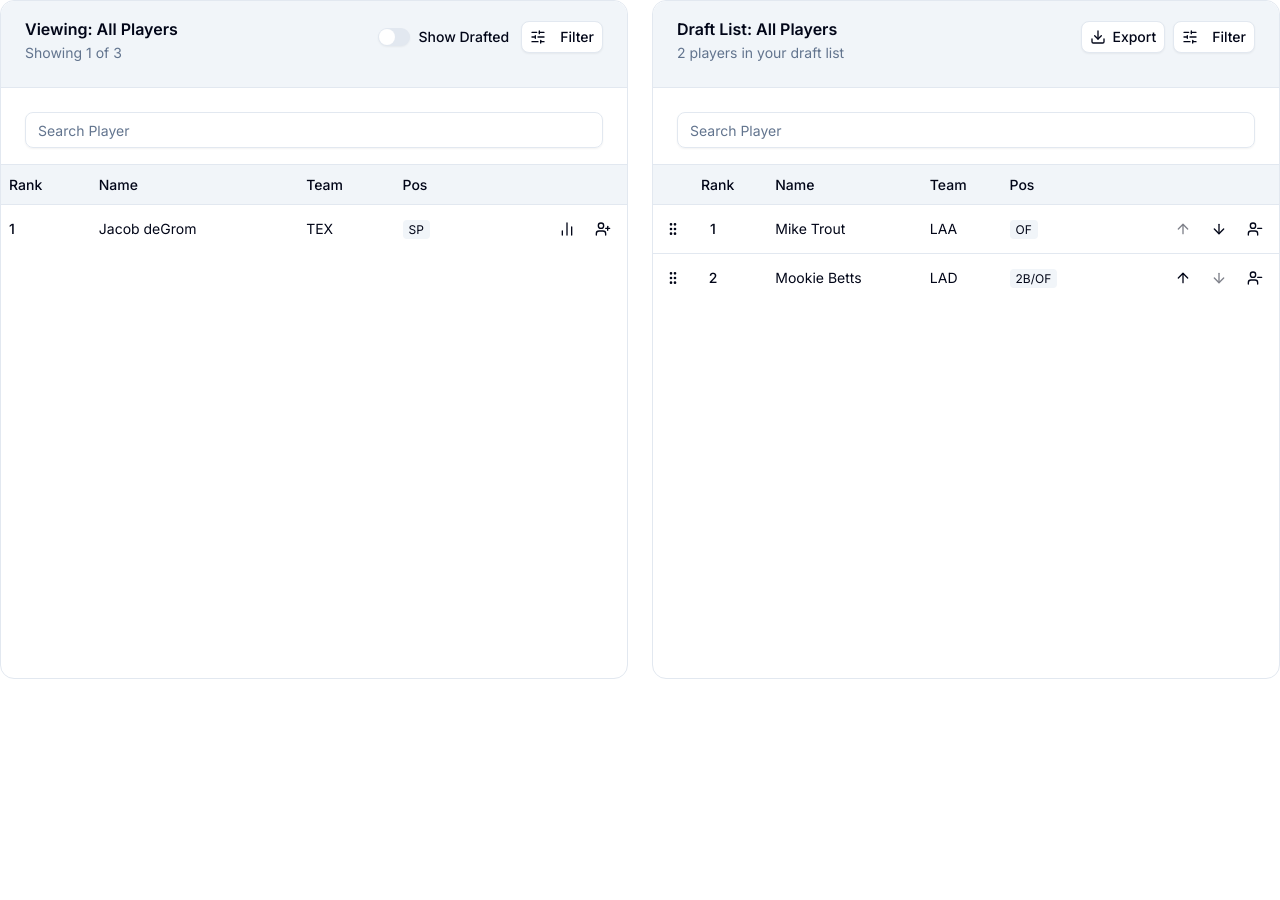
Scenario: DraftListBuilder › rank move popover functionality › should filter players by search term and show no matches
Click the button "1".
click(713, 229)  # box x1=701 y1=217 x2=725 y2=241
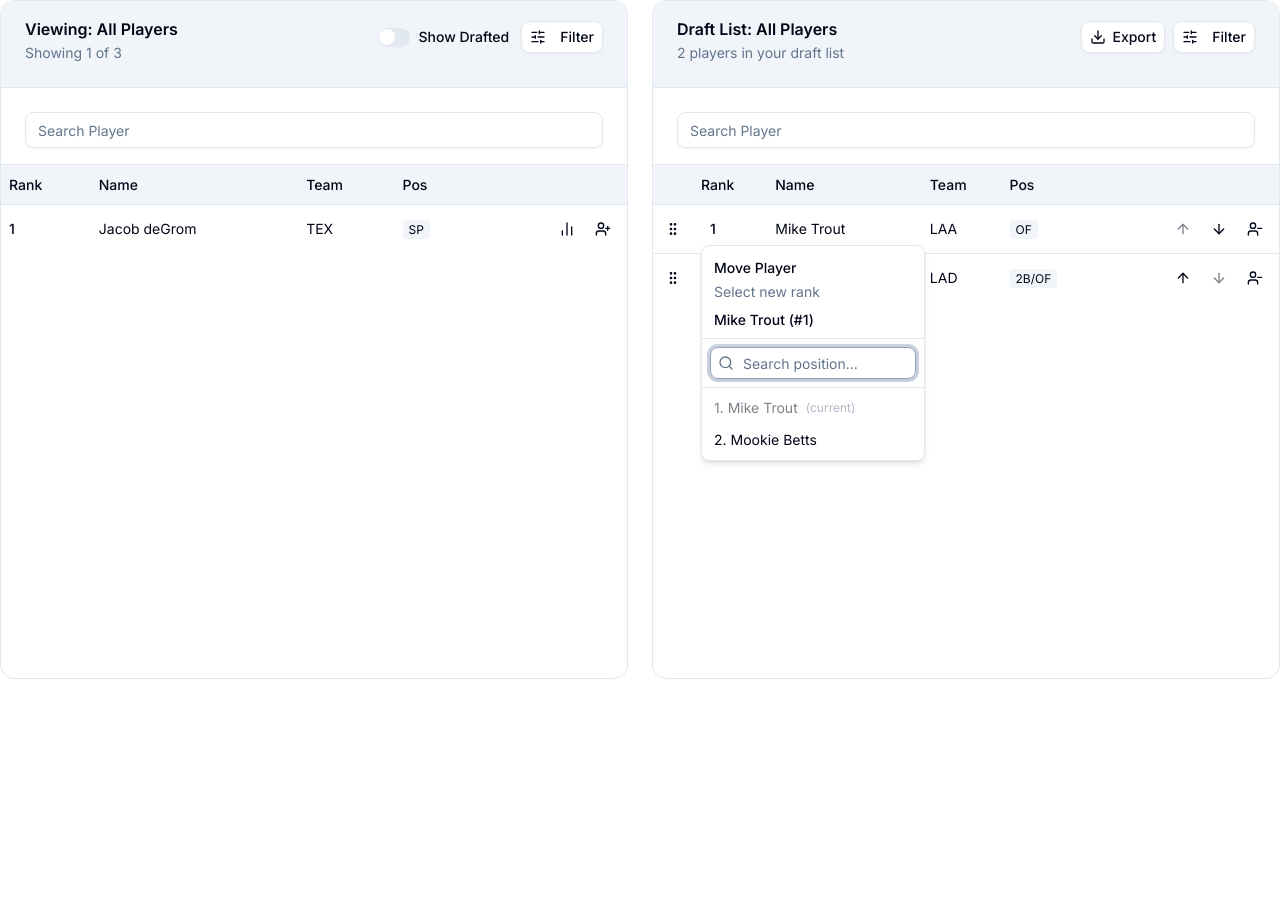
Check: the field with placeholder "Search position..." is shown
Note: Filter to show only rank 2
Type "2" into the field with placeholder "Search position...".
click(813, 363); type("2")  # box x1=710 y1=347 x2=916 y2=379
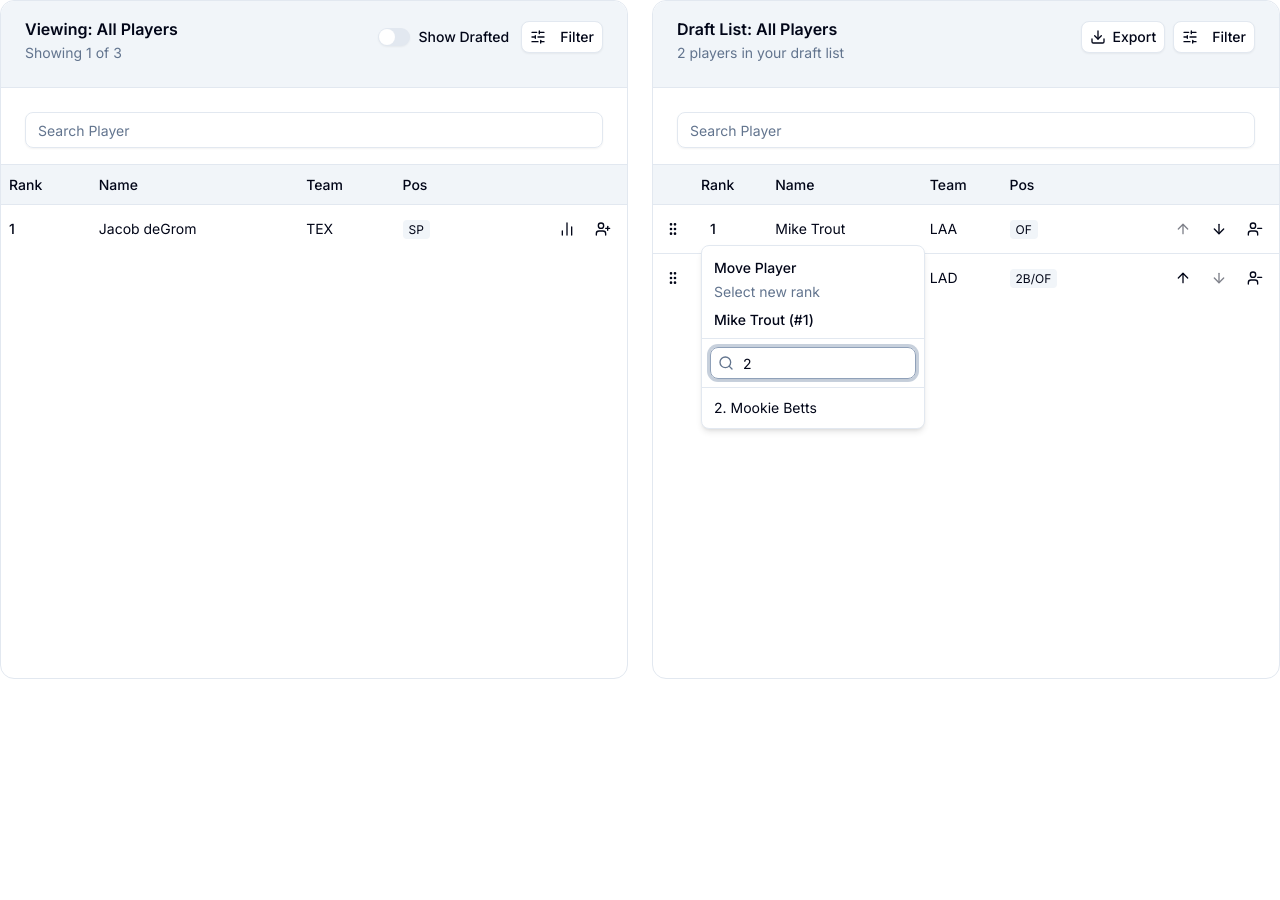
Check: the button "2. Mookie Betts" is shown, box x1=706 y1=392 x2=920 y2=424
Check: the button "1. Mike Trout" is gone
Note: Search for non-existent rank
Replace the text in the field with placeholder "Search position..." with "99" at (813, 363), box x1=710 y1=347 x2=916 y2=379
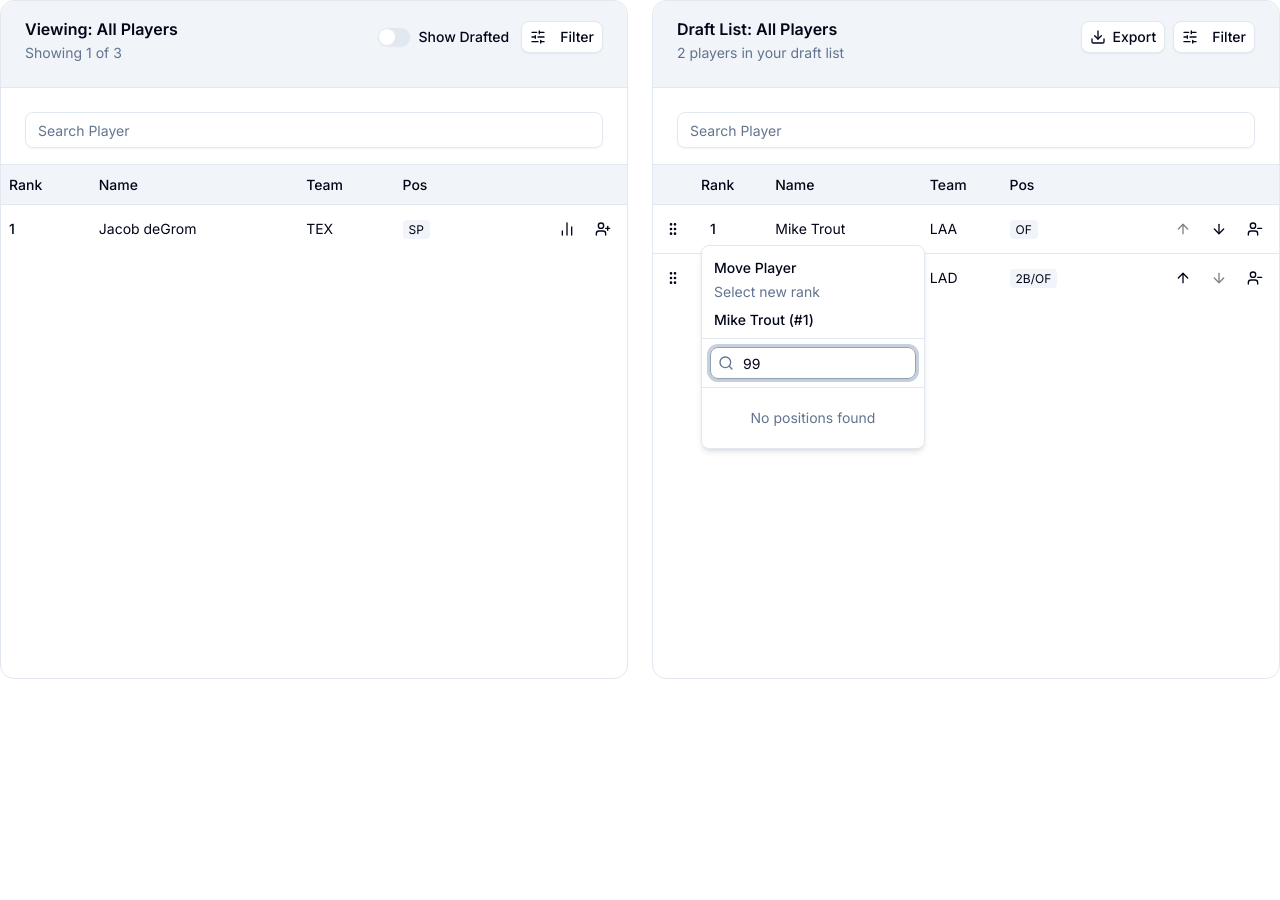
Check: the text "No positions found" is shown, box x1=750 y1=409 x2=875 y2=426
